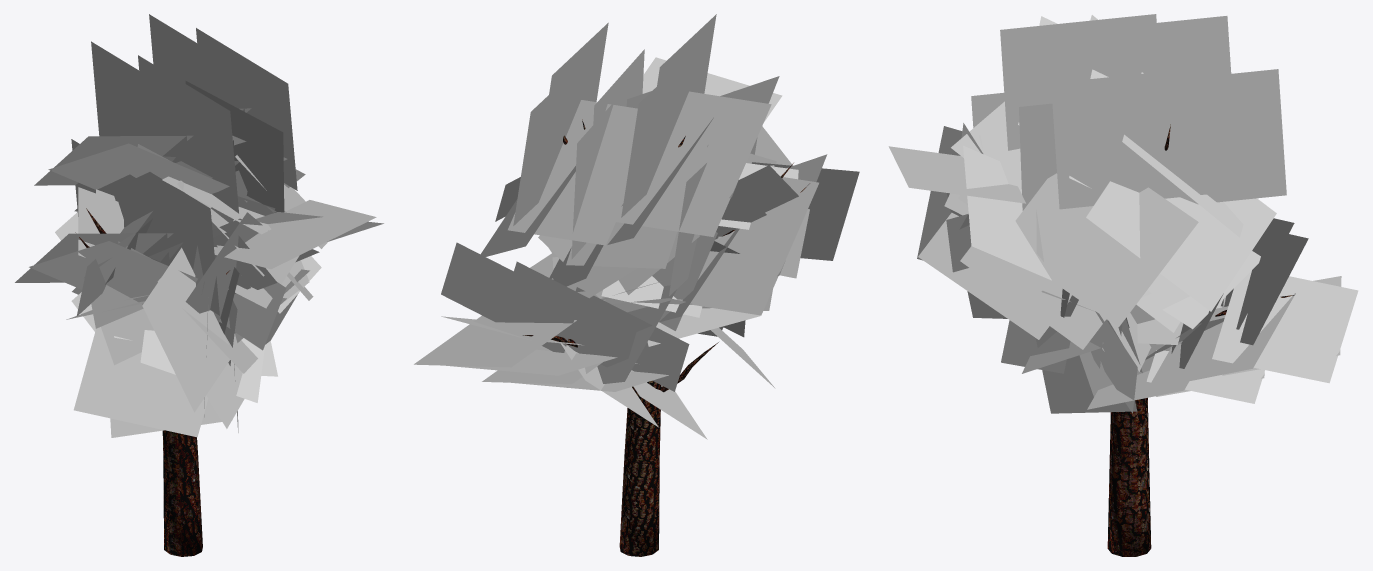
Rendered from treeA.gltf.
The picture shows the model from 3 angles, left to right: view 1: azimuth 30°, elevation 25°; view 2: azimuth 150°, elevation 25°; view 3: azimuth 270°, elevation 25°; orthographic projection. The views are drawn at different scales.
Visible parts, largest first — view 1: Leaves, Tree; view 2: Leaves, Tree; view 3: Leaves, Tree.
Part boxes in pixels (x1,y1,x2,y2): Leaves: (15,14,383,437); Tree: (75,208,229,556); Leaves: (414,14,859,439); Tree: (523,119,809,556); Leaves: (888,14,1358,413); Tree: (1107,124,1294,556).
Size of the model in its own units: 6.86 by 10.97 by 9.03.
